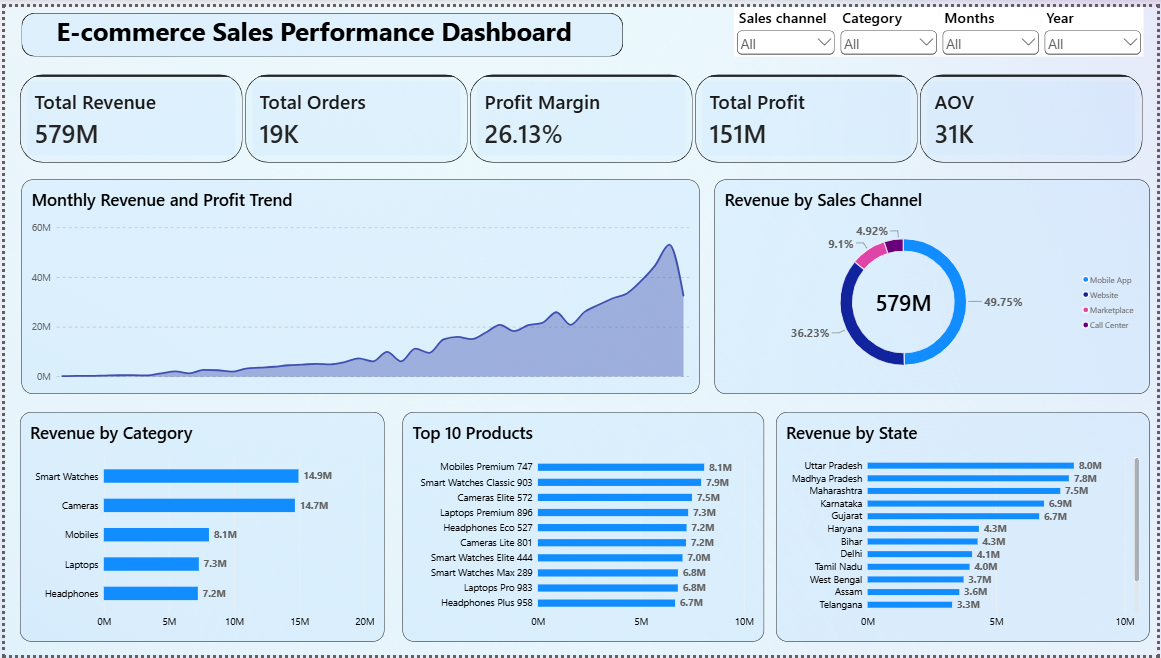

The dashboard page shown, as its layout file describes it:
{"tool":"powerbi","page":{"name":"Executive Summary","canvas":[1920,1080],"ordinal":0},"visuals":[{"type":"shape","box":[27.5,10,1002.5,72.5],"z":0},{"type":"cardVisual","fields":{"Data":["_Measures.Total Revenue","_Measures.Total Orders","_Measures.Profit Margin","_Measures.Total Profit","_Measures.AOV"]},"box":[25,112.5,1872.5,147.5],"z":1000},{"type":"textbox","box":[0,10,1030,72.5],"z":2000},{"type":"slicer","fields":{"Values":["Date.Year"]},"box":[1727.5,0,170,82.5],"z":3000},{"type":"slicer","fields":{"Values":["Date.Month"]},"box":[1557.5,0,170,82.5],"z":4000},{"type":"slicer","fields":{"Values":["Clean_orders.sales_channel"]},"box":[1215,0,172.5,82.5],"z":5000},{"type":"slicer","fields":{"Values":["Categories.category_name"]},"box":[1387.5,0,170,82.5],"z":6000},{"type":"areaChart","title":"Monthly Revenue and Profit Trend","fields":{"Category":["Date.Month Year"],"Y":["_Measures.Total Revenue"]},"box":[27.5,287.5,1130,357.5],"z":7000},{"type":"donutChart","title":"Revenue by Sales Channel","fields":{"Category":["Clean_orders.sales_channel"],"Y":["_Measures.Total Revenue"]},"box":[1182.5,287.5,725,357.5],"z":8000},{"type":"barChart","title":"Revenue by Category","fields":{"Category":["Categories.category_name"],"Y":["_Measures.Total Revenue"]},"box":[25,675,607.5,382.5],"z":9000},{"type":"barChart","title":"Top 10 Products","fields":{"Category":["Products.product_name"],"Y":["_Measures.Total Revenue"]},"box":[662.5,675,602.5,382.5],"z":10000},{"type":"barChart","title":"Revenue by State","fields":{"Category":["Clean_customers.state"],"Y":["_Measures.Total Revenue"]},"box":[1285,675,622.5,382.5],"z":11000}]}

Visuals, with their boxes in screenshot pixels (x1, y1, x2, y2), scaled from the page's 1920x1080 canvas onto the 1161x658 screenshot:
shape: [17, 6, 623, 50]
cardVisual - _Measures.Total Revenue x _Measures.Total Orders: [15, 69, 1147, 158]
textbox: [0, 6, 623, 50]
slicer - Date.Year: [1045, 0, 1147, 50]
slicer - Date.Month: [942, 0, 1045, 50]
slicer - Clean_orders.sales_channel: [735, 0, 839, 50]
slicer - Categories.category_name: [839, 0, 942, 50]
"Monthly Revenue and Profit Trend" areaChart: [17, 175, 700, 393]
"Revenue by Sales Channel" donutChart: [715, 175, 1153, 393]
"Revenue by Category" barChart: [15, 411, 382, 644]
"Top 10 Products" barChart: [401, 411, 765, 644]
"Revenue by State" barChart: [777, 411, 1153, 644]
